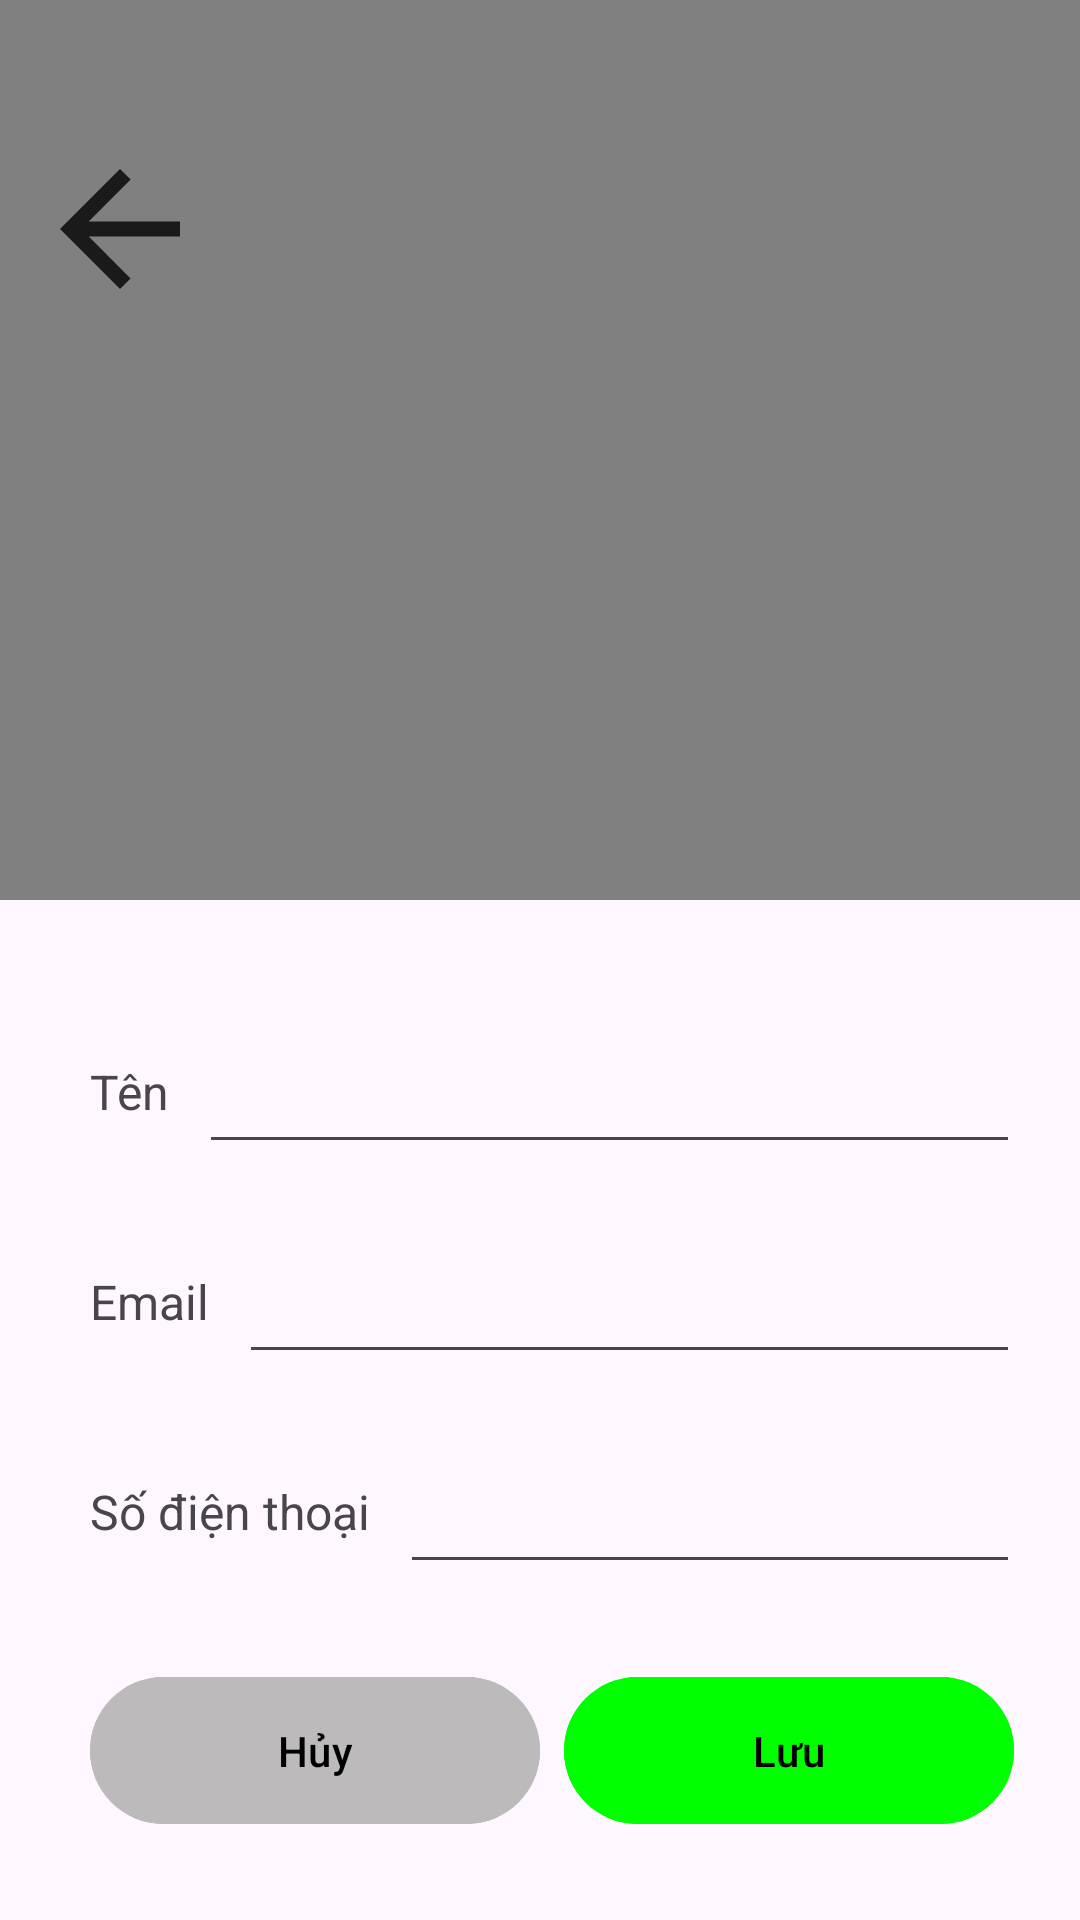

Point at icon controls on the screen. Image size 1080×1920, points as (x=x, y=y).
arrowback: (x=120, y=229)
